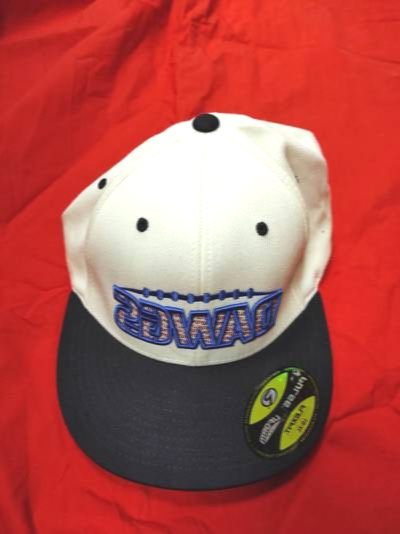Hat: (16, 88, 347, 505)
